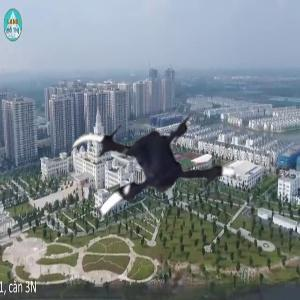drone: (63, 89, 237, 263)
